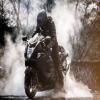motorcycles: (20, 30, 58, 100)
